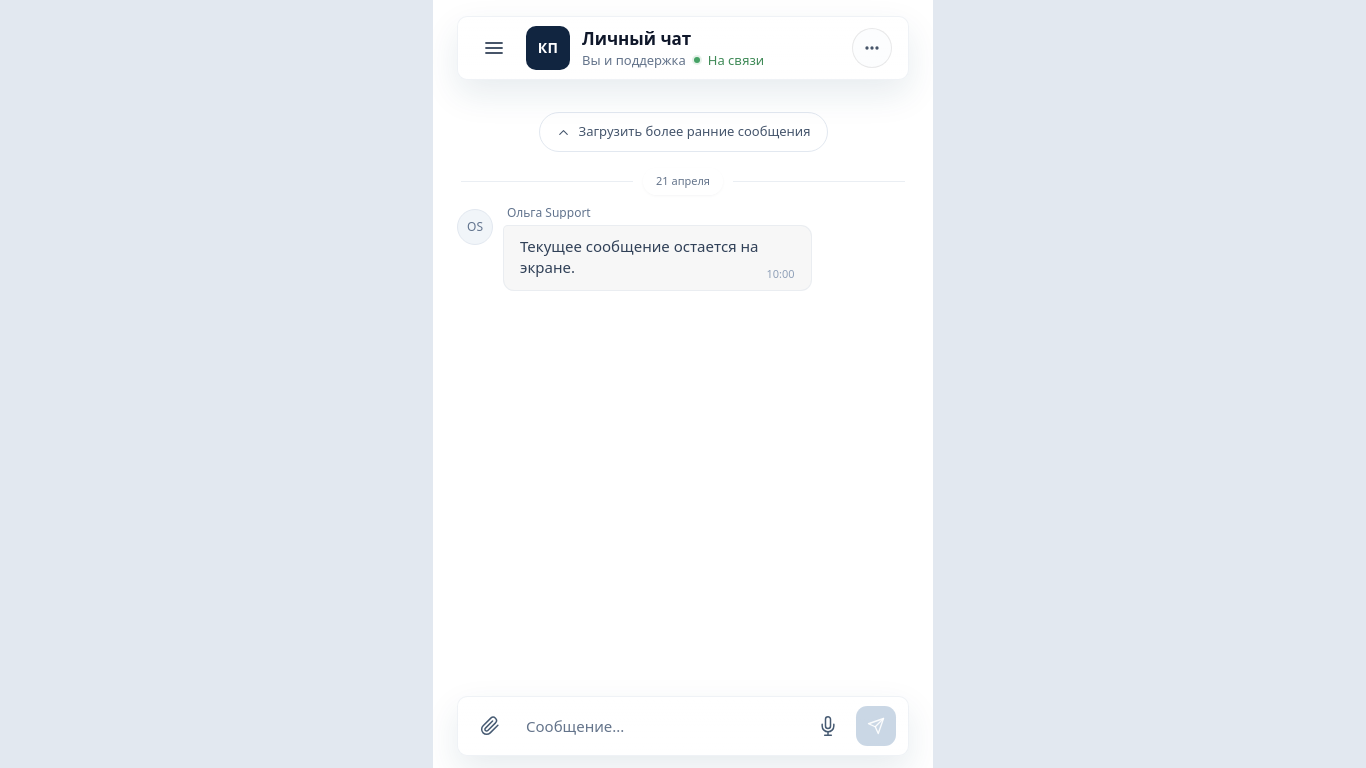
ChatPage history loading › keeps the visible transcript when older history loading fails
This screenshot has width=1366, height=768.
Click the button "Загрузить более ранние сообщения": [683, 132] box top-left (538, 112), bottom-right (828, 152)
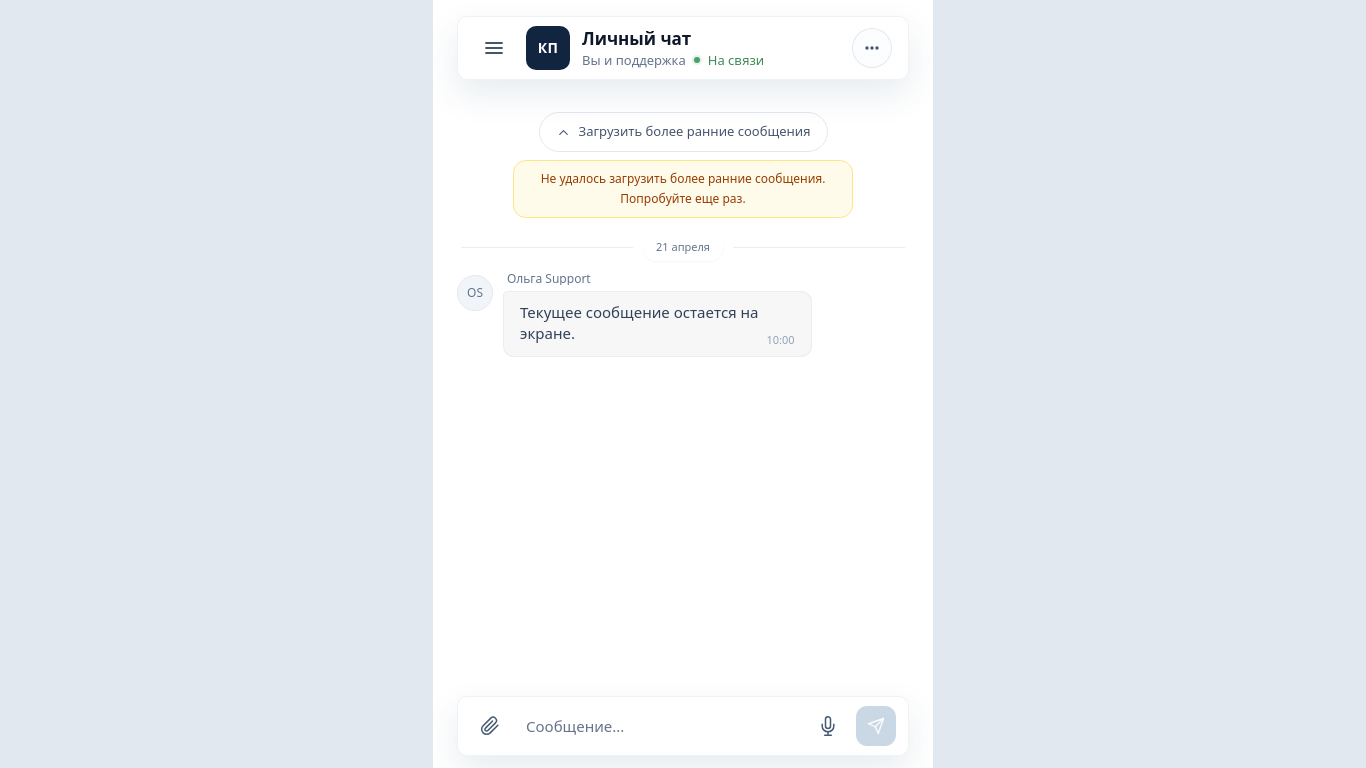
Check: the text "Текущее сообщение остается на экране." is shown, box top-left (520, 302), bottom-right (762, 343)
Check: the text "Не удалось загрузить более ранние сообщения. Попробуйте еще раз." is shown, box top-left (513, 160), bottom-right (853, 218)
